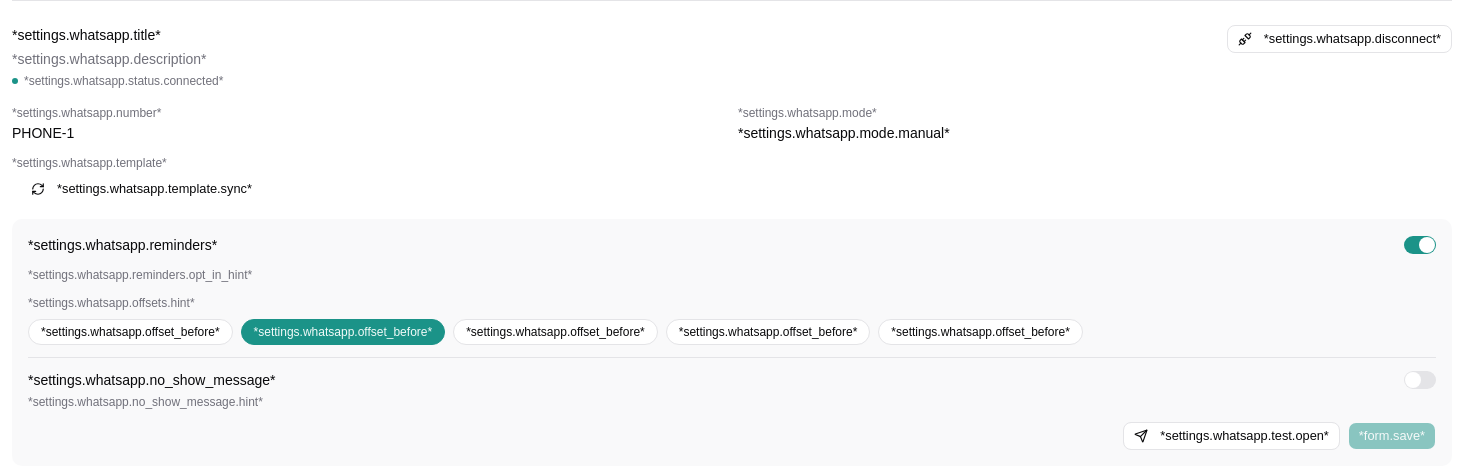
Scenario: WhatsAppSettings — no-show message › is off by default and saves the switch with the reminder settings
The width and height of the screenshot is (1464, 467).
Expected: the text "*settings.whatsapp.no_show_message.hint*" is shown, [28,395,263,409]
Expected: the button "*form.save*" is disabled, [1348,422,1436,450]
Click the switch named "*settings.whatsapp.no_show_message*" in the row of "*settings.whatsapp.no_show_message*" at (1420, 380), box [1404,371,1436,389]
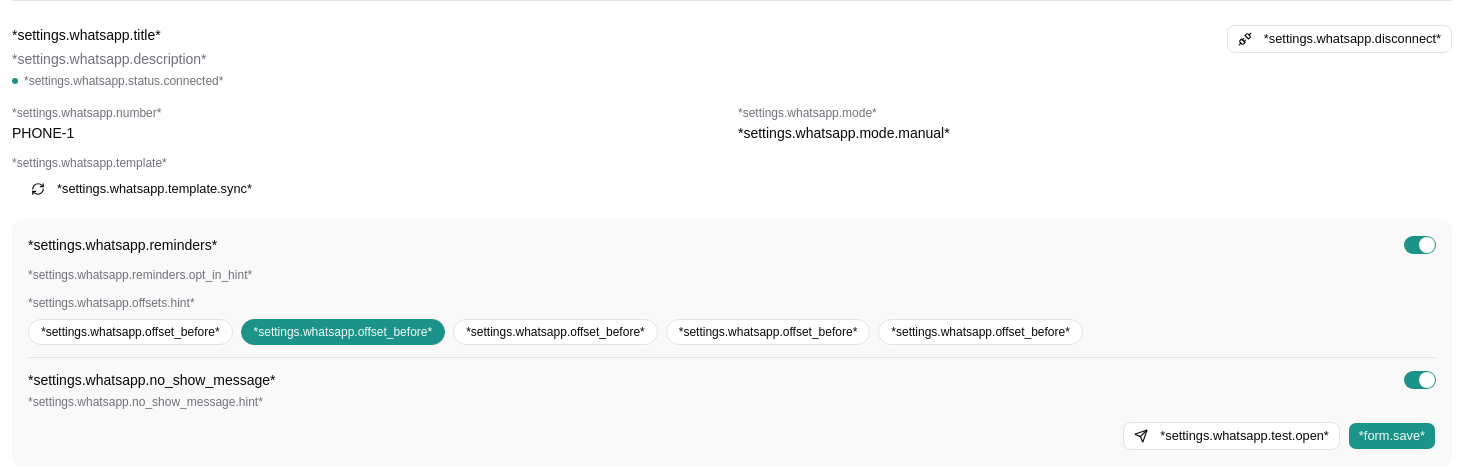
Result: the button "*form.save*" is enabled
Click the button "*form.save*" at (1392, 436), box [1348,422,1436,450]
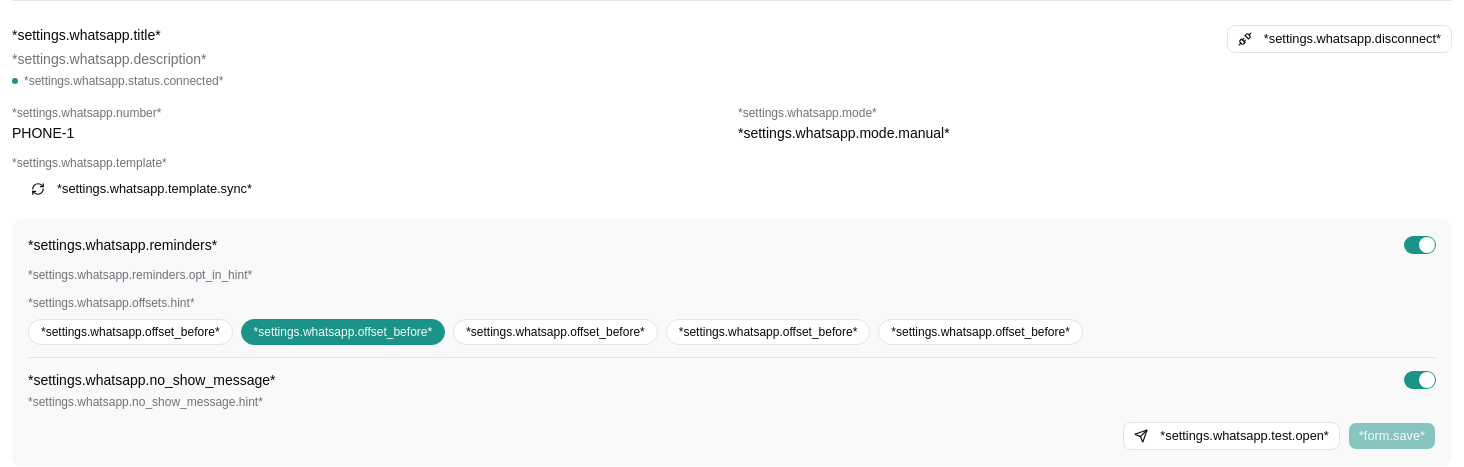
Result: the button "*form.save*" is disabled at [1348,422,1436,450]
